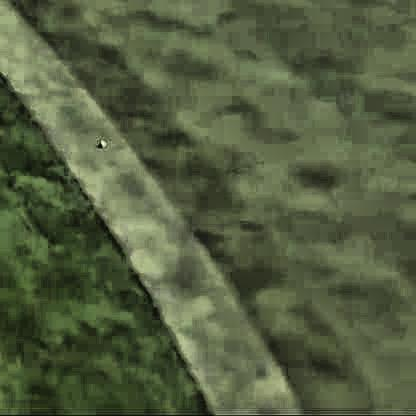golfball: (94, 137, 104, 147)
